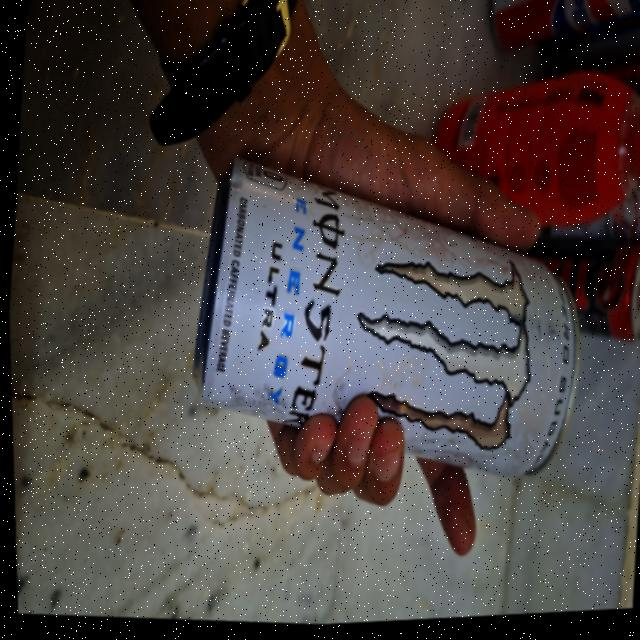White Monster: (181, 144, 596, 483)
